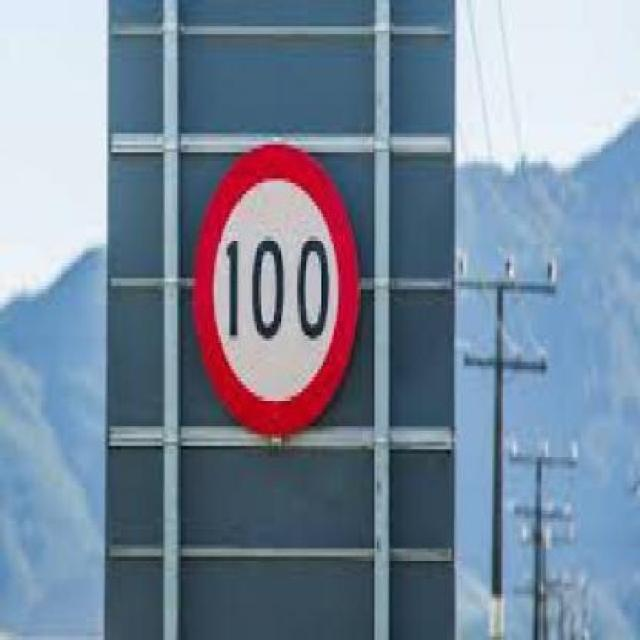forb_speed_over_100: (196, 146, 355, 432)
